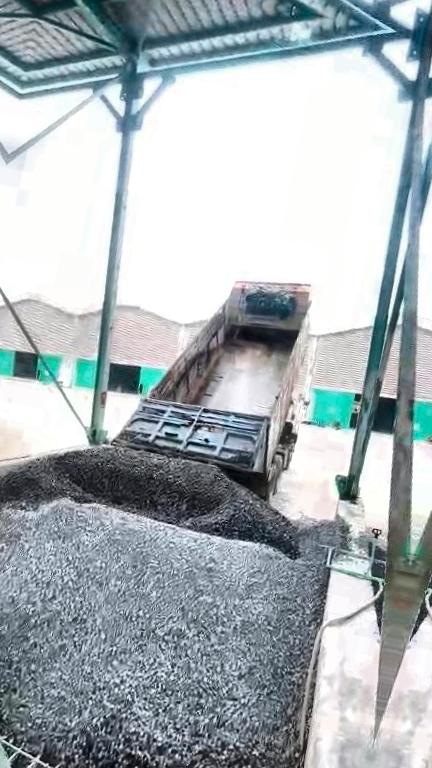gravel: (0, 460, 353, 768), (0, 445, 298, 557)
